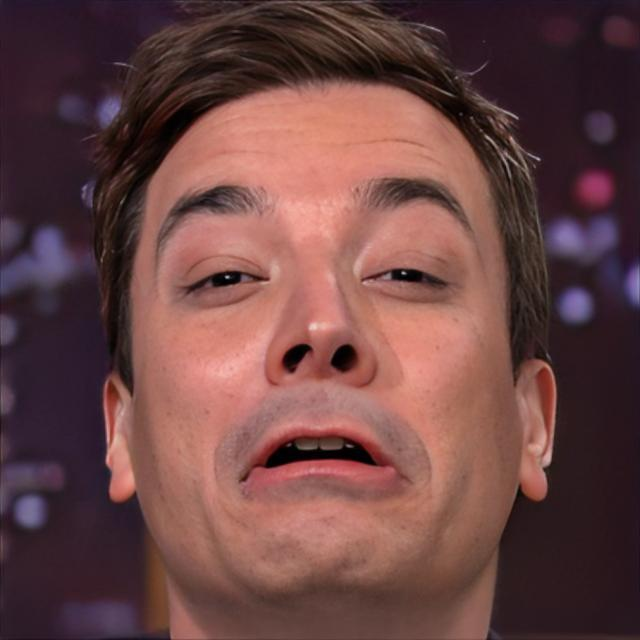surprise: (130, 81, 518, 619)
